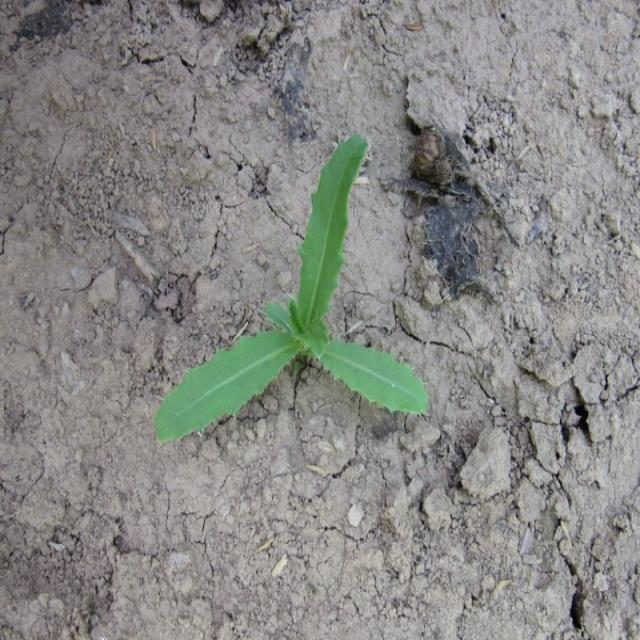cs: (148, 130, 434, 446)
